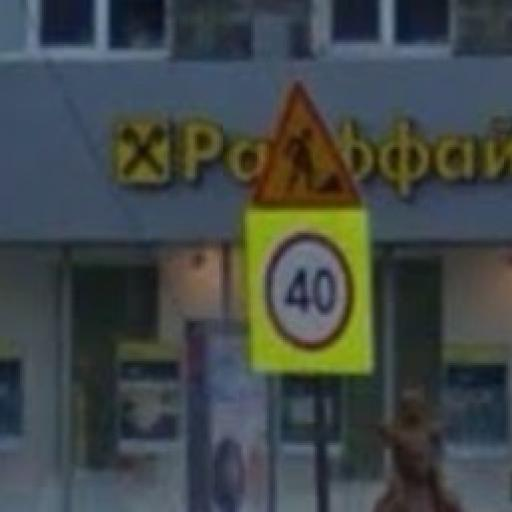traffic_sign: (252, 81, 364, 209), (266, 232, 358, 351)
